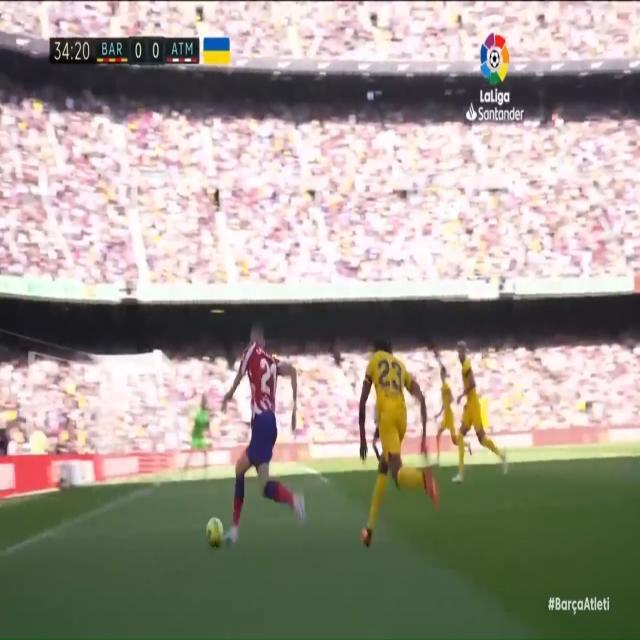ball: (203, 506, 227, 557)
goalkeeper: (182, 388, 217, 489)
player: (223, 313, 309, 550), (350, 330, 437, 555), (454, 335, 510, 499), (431, 346, 460, 489)
